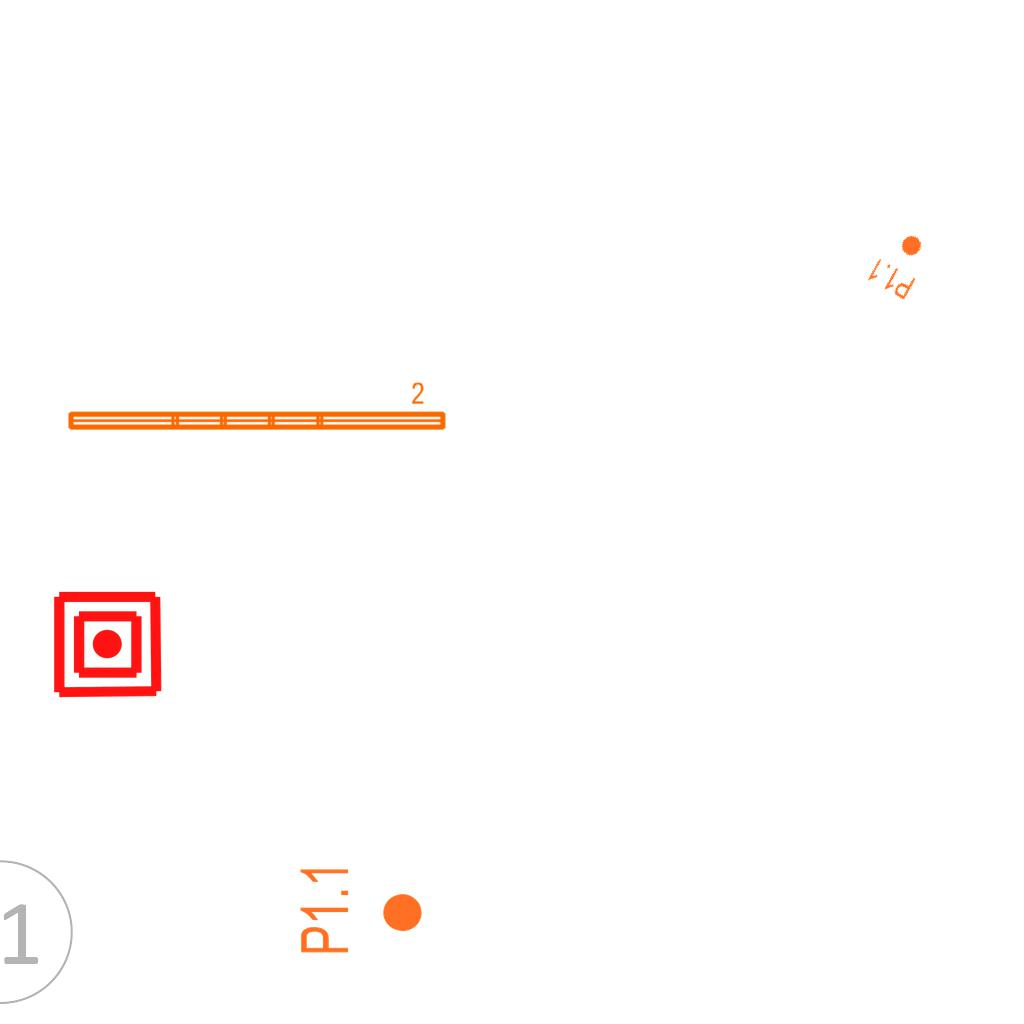Ambulanz_Pendelleuchte_LED: (63, 380, 450, 436)
Downlight_LED_Einbauleuchten_Flur: (297, 863, 425, 956), (864, 223, 936, 303)
NAM-Nichtautomatischer_Melder: (51, 588, 164, 701)
